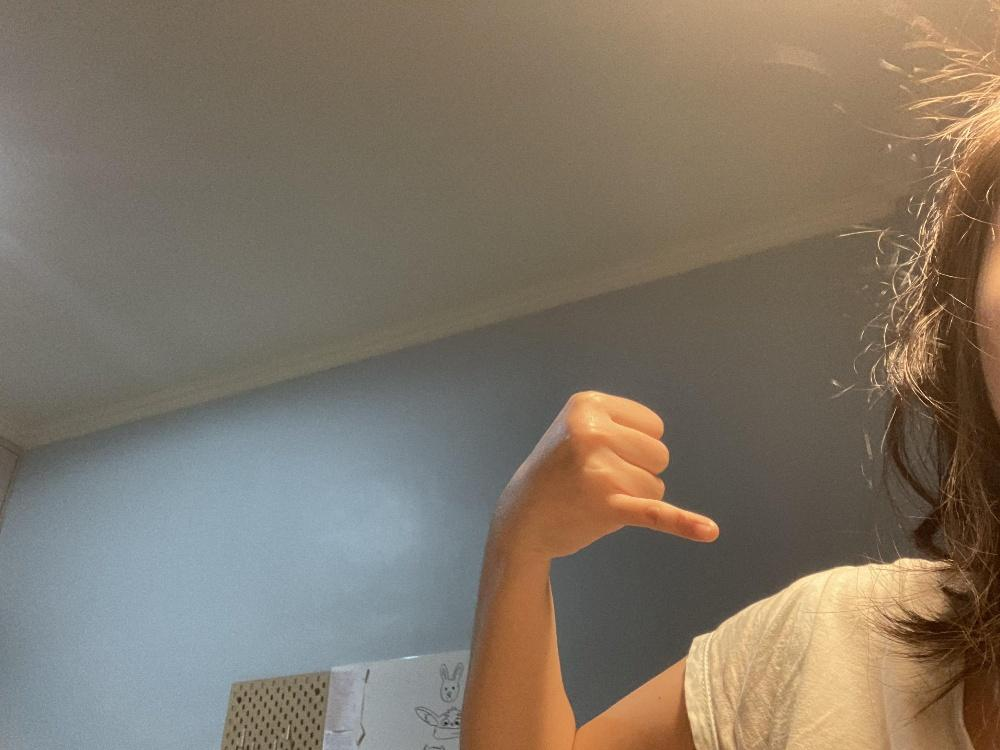j: (491, 389, 718, 558)
